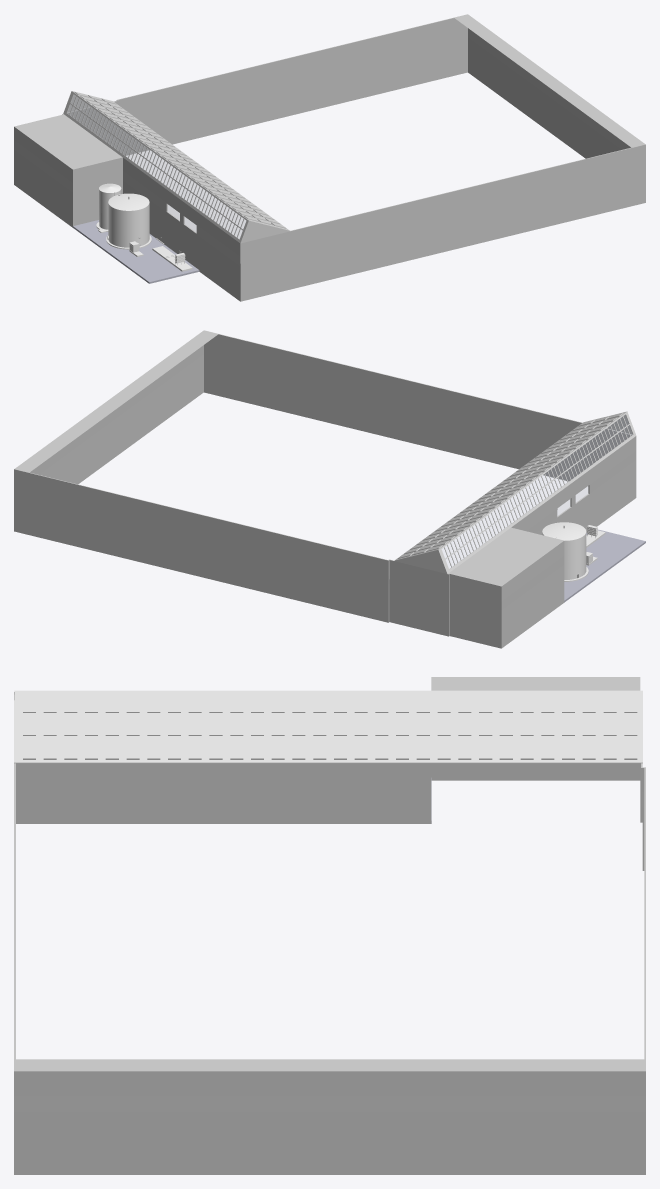
Rendered from reception.glb.
3 renders of one model, top to bottom at view 1: azimuth 30°, elevation 25°; view 2: azimuth 150°, elevation 25°; view 3: azimuth 270°, elevation 25°, orthographic. The views are drawn at different scales.
Visible parts, largest first — view 1: Walls, Toit, Fundament_1_remesh.001, Cuve, Cuve_2; view 2: Walls, Toit, Fundament_1_remesh.001, Cuve; view 3: Walls, Toit.
Part boxes in pixels (x1=…): Walls: x1=14, y1=14, x2=645, y2=301; Toit: x1=63, y1=91, x2=289, y2=243; Fundament_1_remesh.001: x1=73, y1=220, x2=199, y2=283; Cuve: x1=108, y1=193, x2=149, y2=247; Cuve_2: x1=99, y1=183, x2=121, y2=229; Walls: x1=14, y1=330, x2=636, y2=648; Toit: x1=394, y1=411, x2=636, y2=573; Fundament_1_remesh.001: x1=564, y1=529, x2=645, y2=602; Cuve: x1=542, y1=522, x2=586, y2=579; Walls: x1=14, y1=677, x2=645, y2=1174; Toit: x1=14, y1=690, x2=642, y2=763.
Size of what is drawn, in the model's own units: 537 by 89.15 by 364.
